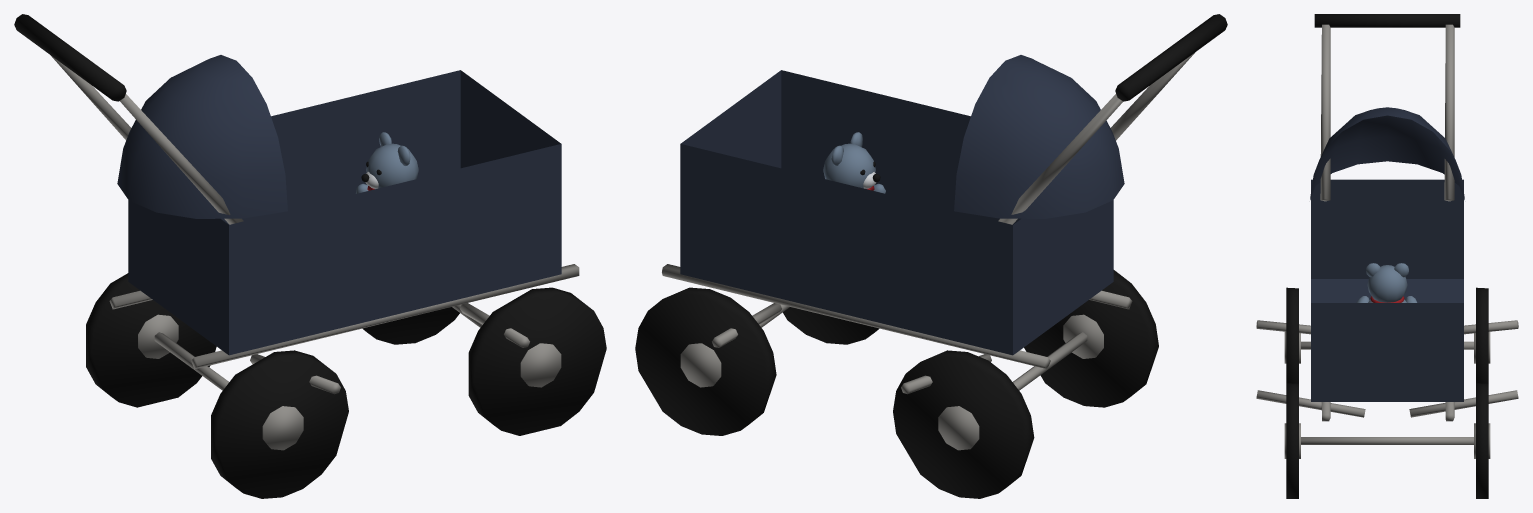
The model's file is pram.glb.
The picture shows the model from 3 angles, left to right: view 1: azimuth 30°, elevation 25°; view 2: azimuth 150°, elevation 25°; view 3: azimuth 270°, elevation 25°; orthographic projection. The views are drawn at different scales.
Parts seen in each view (by area): view 1: tub, bar, hood, axle, bear_blue; view 2: tub, bar, hood, axle, bear_blue; view 3: tub, axle, bar, hood, bear_blue.
Boxes of the visible parts, box(x1,y1,x2,y2) form: tub: box(128, 70, 561, 355); bar: box(14, 14, 606, 498); hood: box(117, 55, 287, 218); axle: box(50, 55, 579, 450); bear_blue: box(356, 132, 418, 193); tub: box(680, 70, 1113, 355); bar: box(635, 14, 1227, 498); hood: box(954, 55, 1124, 218); axle: box(662, 53, 1194, 450); bear_blue: box(823, 132, 885, 193); tub: box(1311, 179, 1463, 401); axle: box(1256, 24, 1518, 458); bar: box(1286, 14, 1488, 498); hood: box(1310, 107, 1464, 199); bear_blue: box(1356, 263, 1417, 302).
Bounding box in the file's own units: 1.15 × 1 × 0.7196.
